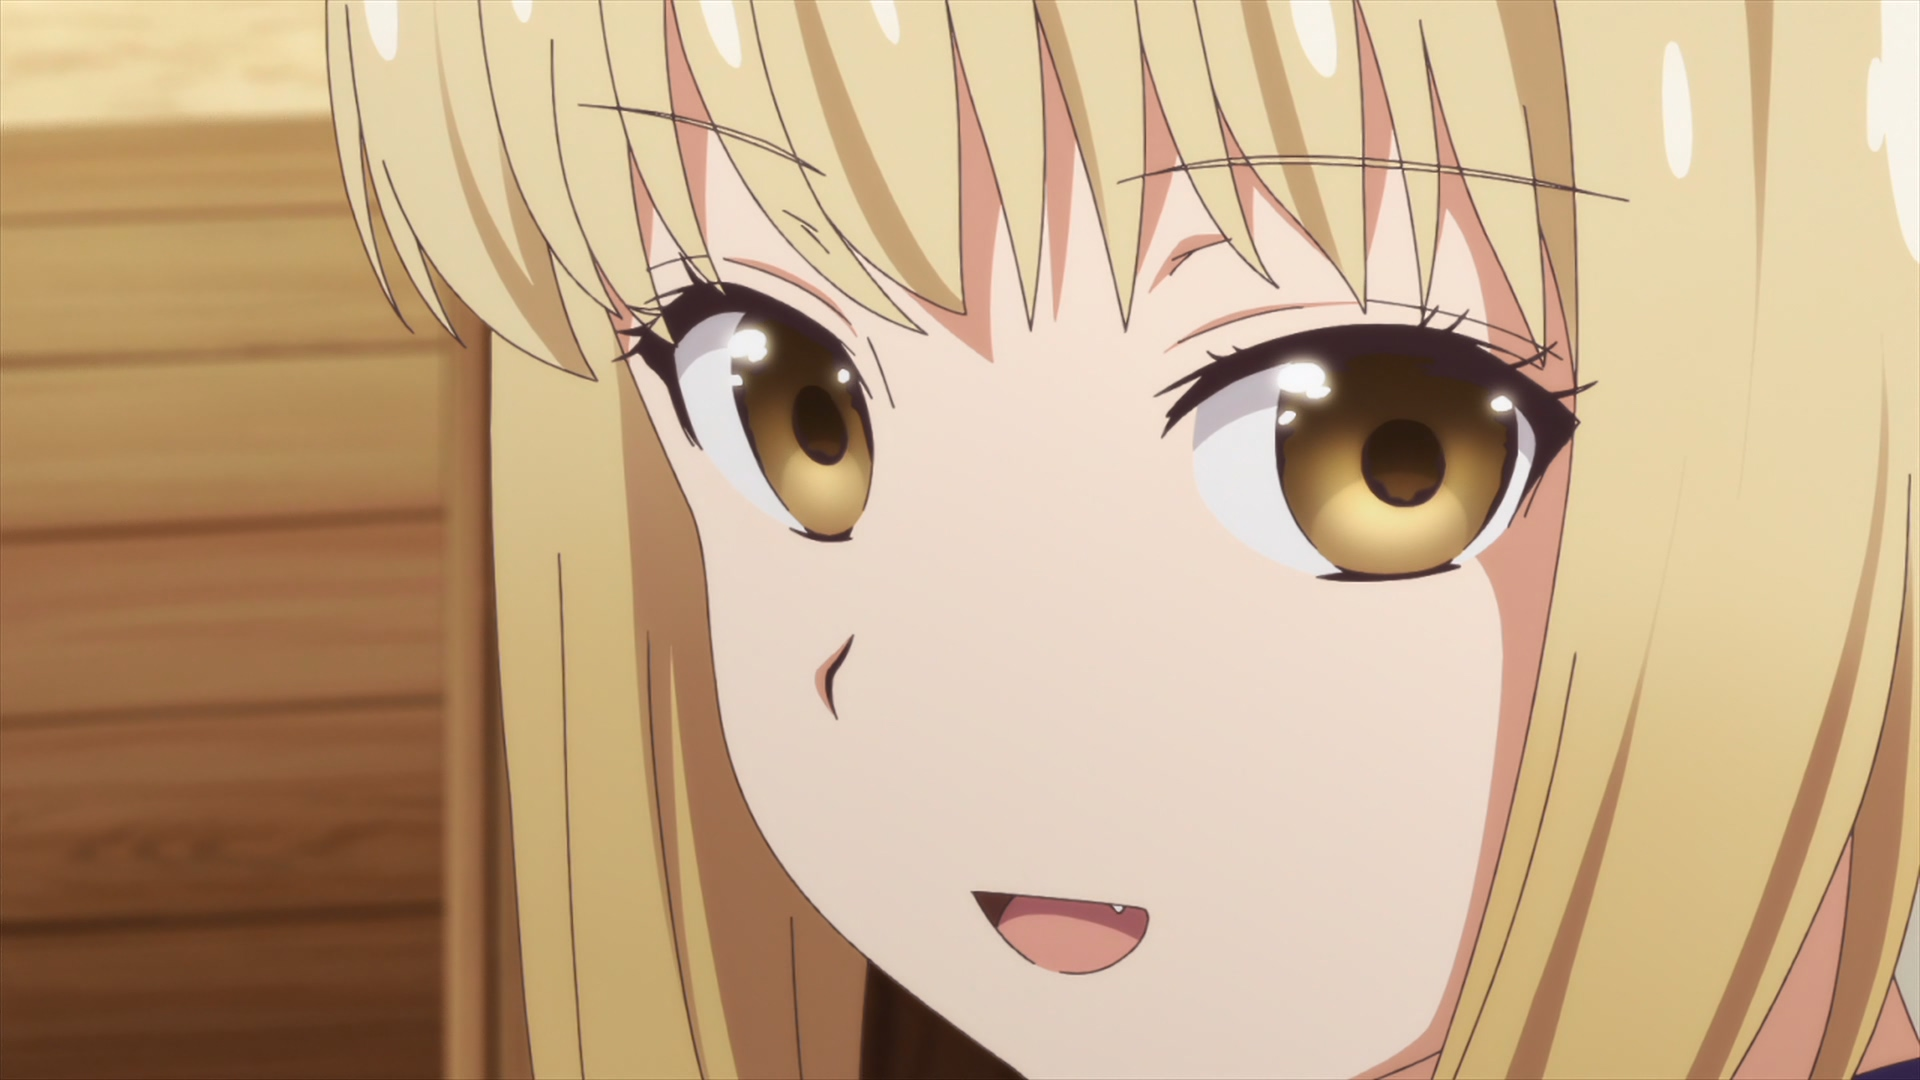桐: (323, 1, 1920, 1080)
